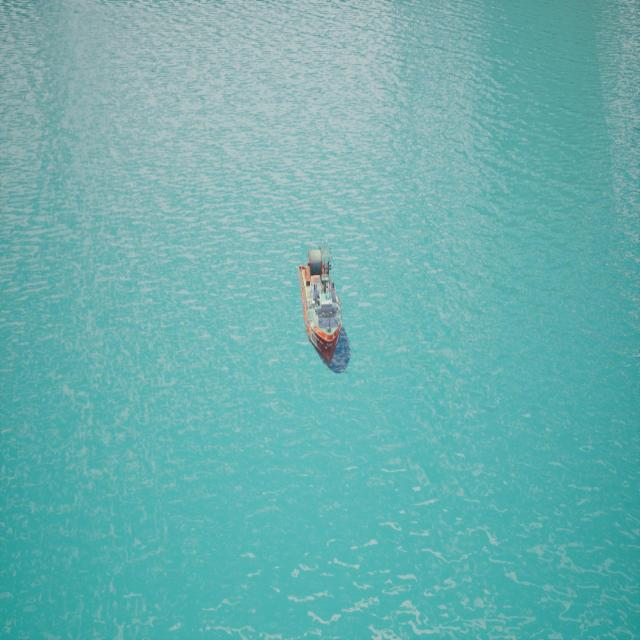tug boat: (299, 246, 347, 377)
